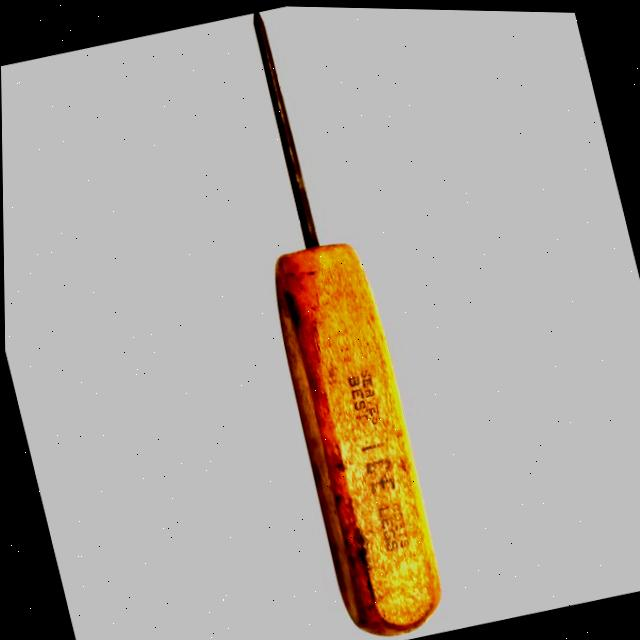ice pick: (201, 4, 453, 640)
